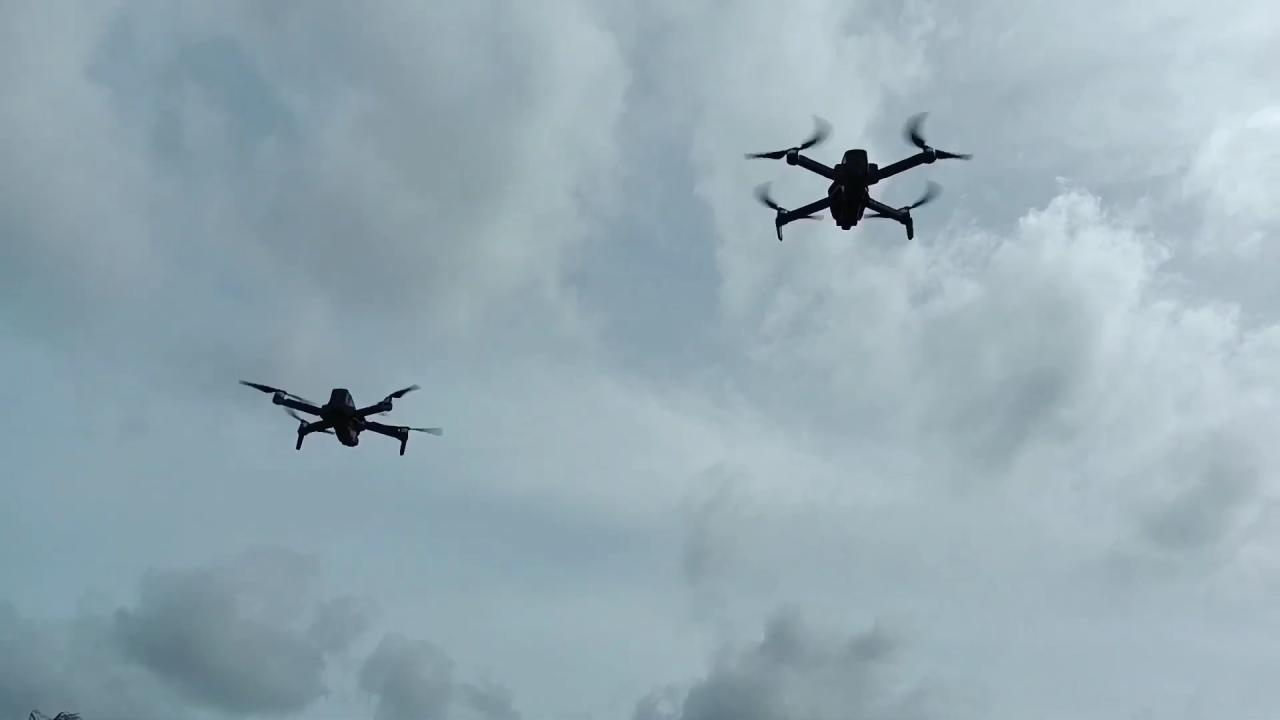Drone: (738, 98, 984, 253), (225, 370, 460, 467)
